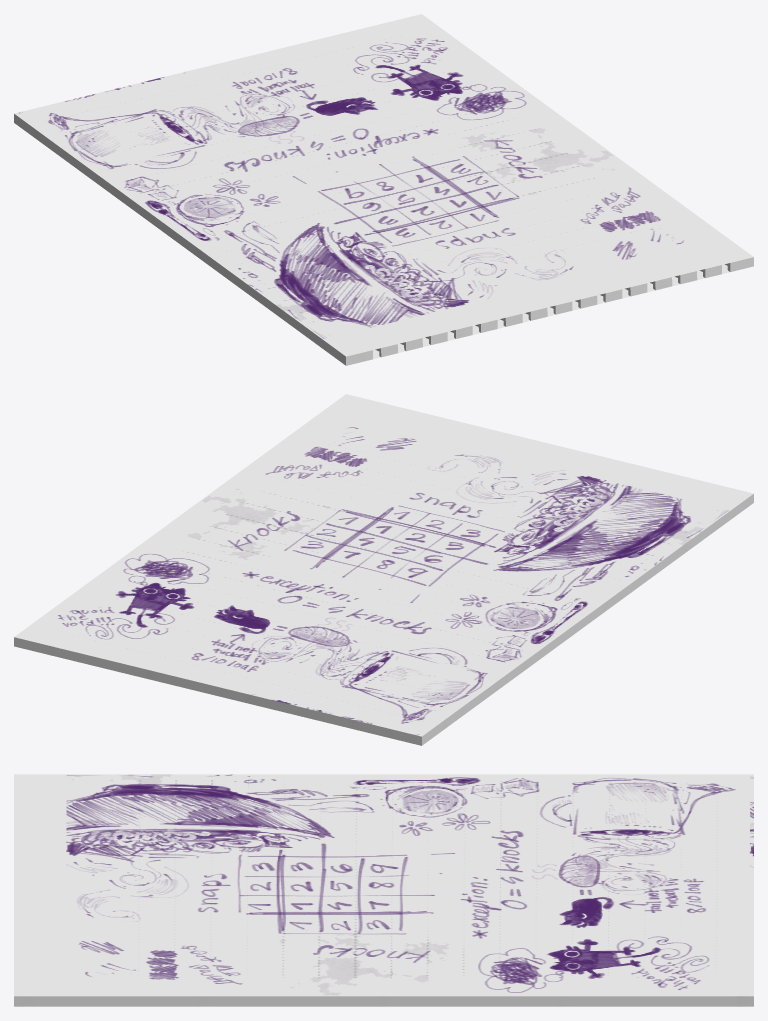
Rendered from clue_paper2.fbx.
3 renders of one model, top to bottom at view 1: azimuth 30°, elevation 25°; view 2: azimuth 150°, elevation 25°; view 3: azimuth 270°, elevation 25°, orthographic. The views are drawn at different scales.
Parts seen in each view (by area): view 1: clue_paper; view 2: clue_paper; view 3: clue_paper.
Part boxes in pixels (x1,y1,x2,y2): clue_paper: (14,14,753,365); clue_paper: (14,394,753,745); clue_paper: (14,774,753,1006).
Bounding box in the file's own units: 0.23 × 0.3244 × 0.005.
Materials: 1 (1 with a texture image).
